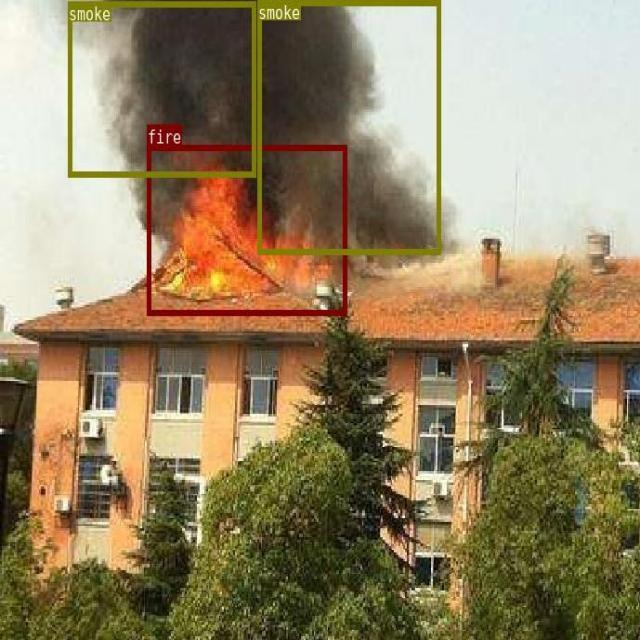fire: (146, 145, 346, 315)
smoke: (257, 0, 441, 254), (68, 1, 255, 176)
